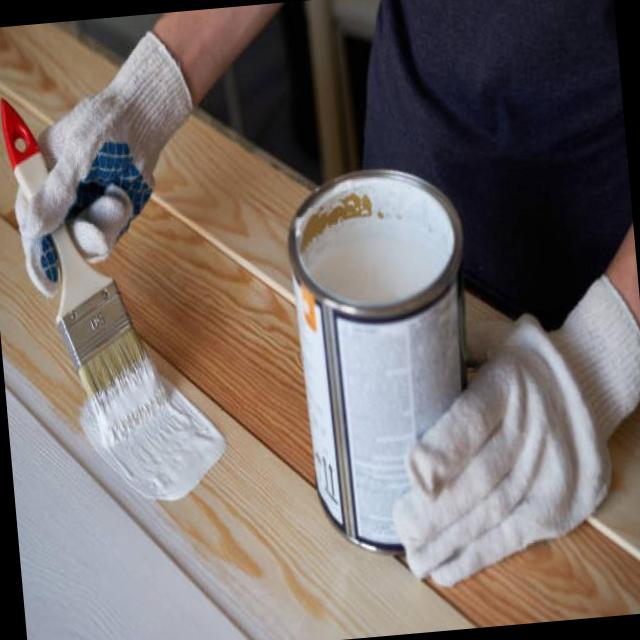Gloves: (368, 267, 640, 594), (0, 22, 208, 299)
